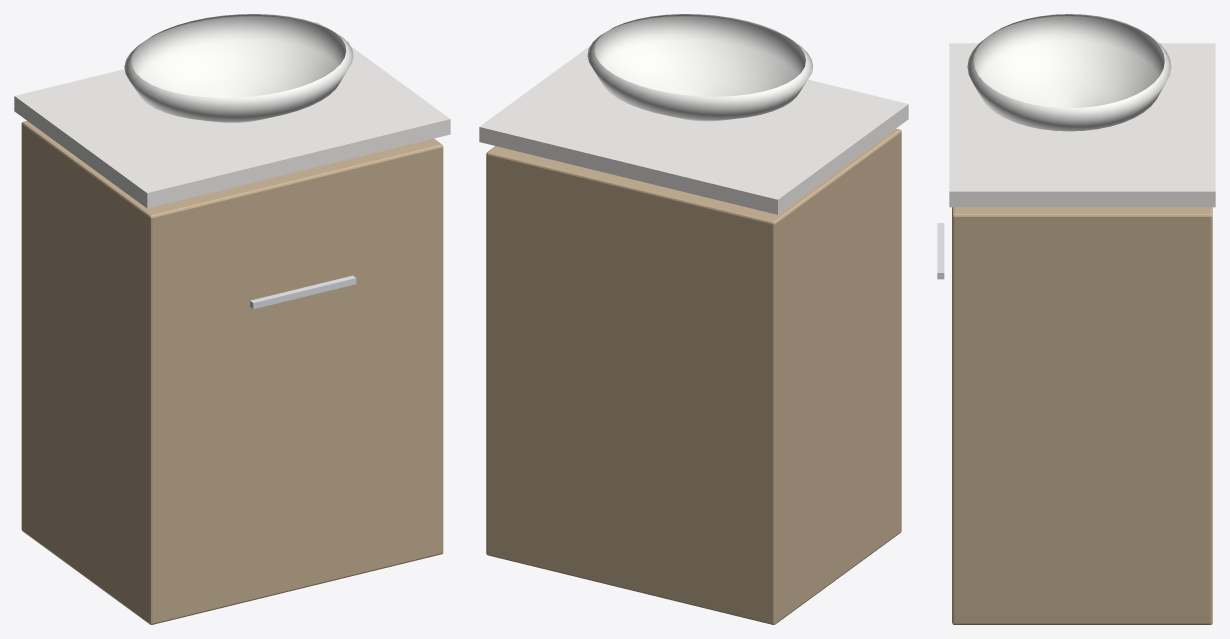
Rendered from vanity-standing-1drawer.glb.
3 views of the same model, side by side, from view 1: azimuth 30°, elevation 25°; view 2: azimuth 150°, elevation 25°; view 3: azimuth 270°, elevation 25° (orthographic).
Parts seen in each view (by area): view 1: body; view 2: body; view 3: body.
Boxes of the visible parts, bbox=[...] form: body: bbox=[14, 14, 450, 624]; body: bbox=[479, 14, 908, 624]; body: bbox=[937, 14, 1215, 624].
Size of the model in its own units: 0.62 by 0.96 by 0.491.
